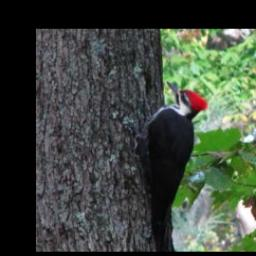Woodpecker: (124, 80, 212, 251)
